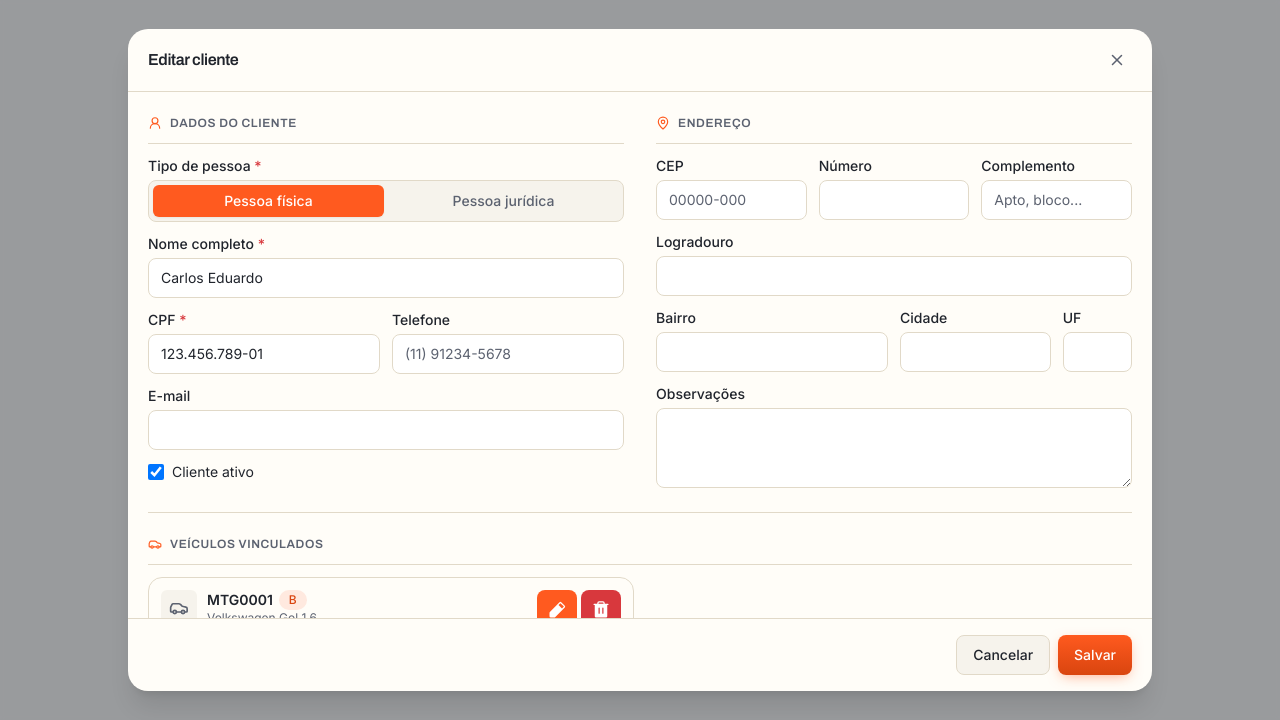
ClienteFormModal › removes a linked veículo after confirming, and toasts success
Click the button named "Remover veículo". click: (601, 610)
box: [581,590,621,630]
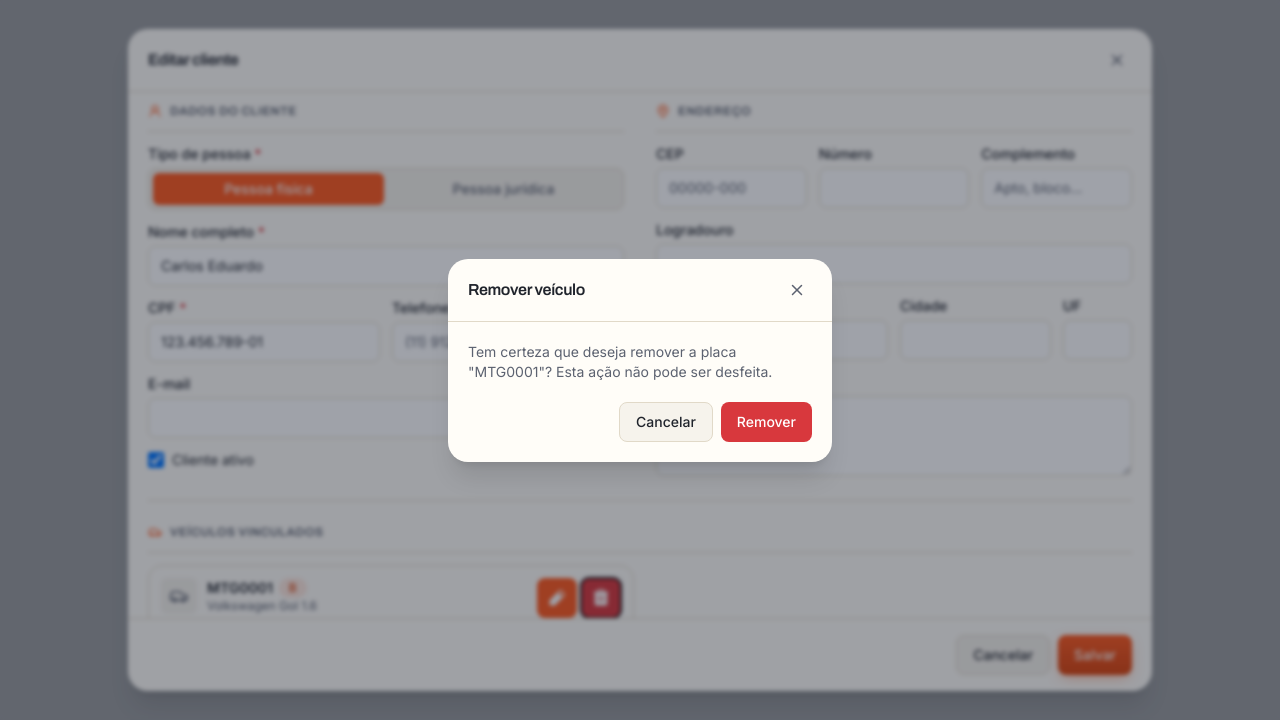
Result: the text "remover a placa \"MTG0001\"" is shown at [468,342,772,380]
Click the button "Remover". click: (766, 422)
box: [721,402,812,442]
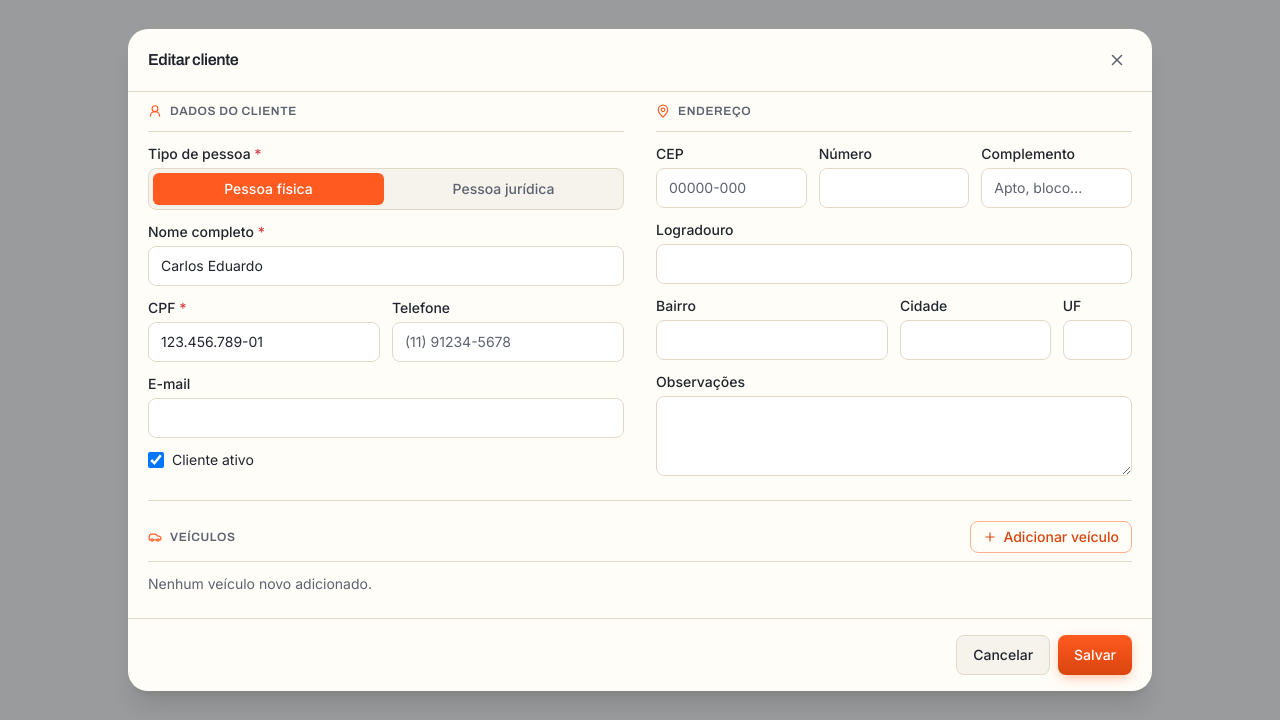
Result: the text "MTG0001" is gone
